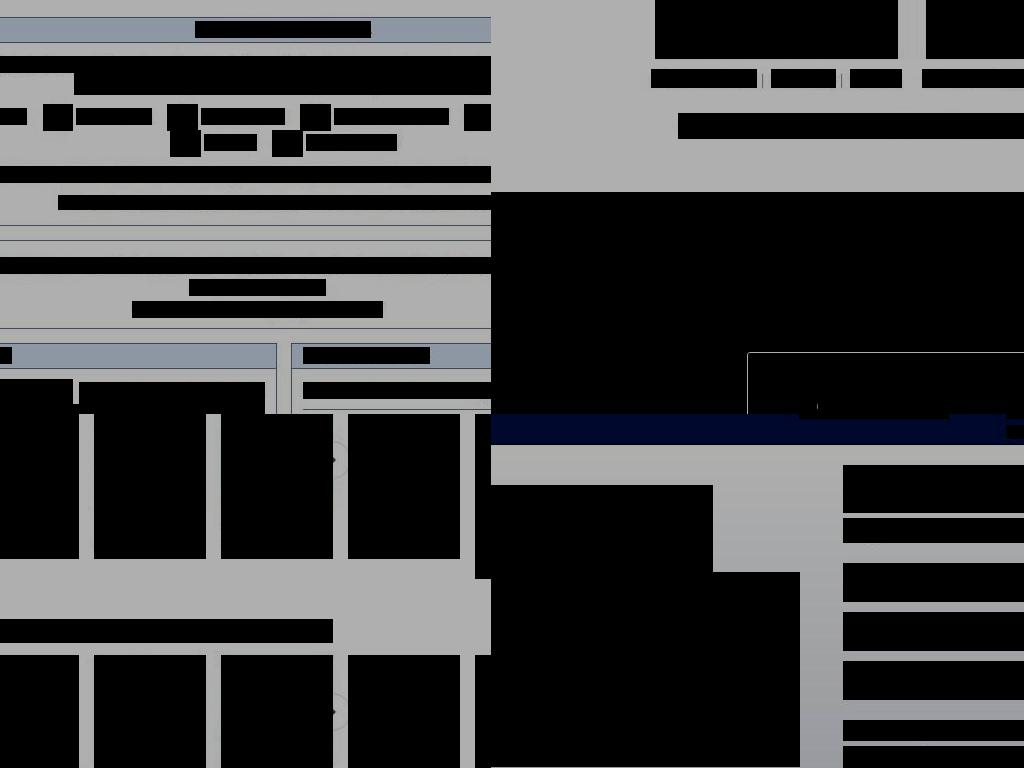button: (94, 414, 206, 559), (221, 414, 333, 559), (348, 414, 460, 559), (655, 0, 898, 59), (94, 655, 206, 768), (221, 655, 333, 768), (348, 655, 460, 768), (0, 414, 79, 559), (0, 655, 79, 768), (926, 0, 1024, 59), (491, 205, 562, 244), (475, 414, 491, 579), (475, 655, 491, 768), (762, 374, 802, 414)
field: (843, 563, 1024, 602), (843, 612, 1024, 651), (843, 661, 1024, 700), (896, 746, 965, 768), (965, 746, 1024, 768), (843, 746, 896, 768), (799, 414, 949, 419)
heading: (195, 21, 371, 38), (303, 347, 430, 364)
image: (491, 572, 800, 767), (94, 655, 206, 767), (221, 655, 333, 767), (348, 655, 460, 767), (94, 414, 206, 515), (221, 414, 333, 515), (348, 414, 460, 515), (0, 655, 79, 767), (0, 414, 79, 515), (491, 205, 562, 244), (475, 655, 491, 767), (475, 414, 491, 515), (762, 374, 802, 414), (167, 104, 198, 131), (300, 104, 331, 131), (170, 130, 201, 157), (272, 130, 303, 157), (43, 104, 73, 131), (464, 104, 491, 131)
link: (818, 374, 1024, 414), (79, 382, 265, 414), (673, 28, 880, 53), (854, 113, 1024, 139), (491, 317, 664, 336), (285, 166, 445, 183), (116, 166, 274, 183), (651, 69, 757, 88), (944, 28, 1024, 53), (334, 108, 449, 125), (922, 69, 1024, 88), (217, 279, 326, 296), (0, 166, 106, 183), (888, 395, 981, 414), (135, 195, 247, 210), (306, 134, 397, 151), (285, 56, 375, 73), (171, 56, 256, 73), (201, 108, 285, 125), (372, 257, 451, 274), (76, 108, 152, 125), (771, 69, 836, 88), (959, 293, 1024, 312), (0, 257, 70, 274), (413, 195, 491, 210), (146, 257, 212, 274), (132, 301, 197, 318), (223, 257, 287, 274), (174, 78, 237, 95), (303, 382, 366, 399), (883, 374, 938, 393), (58, 195, 125, 210), (850, 69, 902, 88), (284, 301, 339, 318), (436, 382, 491, 399), (204, 134, 257, 151), (443, 56, 491, 73), (377, 382, 425, 399), (359, 195, 404, 210), (256, 195, 300, 210), (454, 166, 491, 183), (309, 195, 350, 210), (457, 257, 491, 274), (350, 301, 383, 318), (0, 108, 27, 125)
text: (491, 485, 713, 572), (74, 56, 491, 95), (491, 257, 1024, 279), (491, 293, 959, 312), (843, 465, 1024, 513), (0, 619, 333, 643), (678, 113, 854, 139), (843, 518, 1024, 543), (236, 78, 491, 95), (843, 720, 1024, 741), (708, 0, 846, 25), (0, 56, 171, 73), (94, 515, 190, 539), (221, 515, 317, 539), (348, 515, 444, 539), (960, 0, 1024, 25), (94, 543, 190, 559), (221, 543, 317, 559), (348, 543, 444, 559), (0, 515, 63, 539), (197, 301, 285, 318), (286, 257, 373, 274), (938, 374, 1007, 393), (70, 257, 147, 274), (816, 374, 883, 393), (373, 56, 443, 73), (0, 543, 63, 559), (475, 515, 491, 559), (254, 56, 285, 73), (189, 279, 217, 296), (79, 382, 105, 399), (475, 563, 491, 579), (424, 382, 438, 399), (273, 166, 286, 183), (210, 257, 223, 274), (337, 301, 350, 318), (364, 382, 377, 399), (105, 166, 117, 183), (443, 166, 455, 183), (403, 195, 415, 210), (124, 195, 135, 210), (245, 195, 256, 210), (298, 195, 309, 210), (348, 195, 359, 210), (450, 257, 459, 274), (664, 317, 667, 336)
